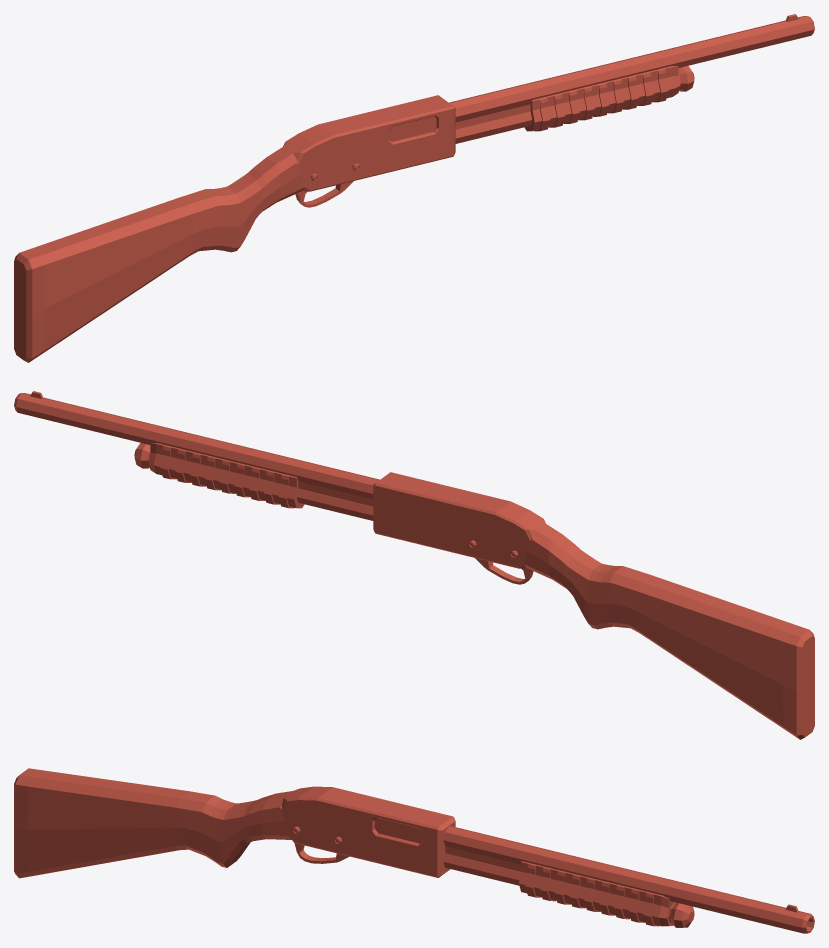
The model's file is shotgun.fbx.
3 views of the same model, one above another, from view 1: azimuth 30°, elevation 25°; view 2: azimuth 150°, elevation 25°; view 3: azimuth 330°, elevation 25° (orthographic).
Parts seen in each view (by area): view 1: shotgun; view 2: shotgun; view 3: shotgun.
Part boxes in pixels (left/top/right/bottom): shotgun: left=14, top=14, right=814, bottom=362; shotgun: left=14, top=391, right=814, bottom=739; shotgun: left=14, top=768, right=814, bottom=933.
Bounding box in the file's own units: 140 × 26.56 × 6.06.
